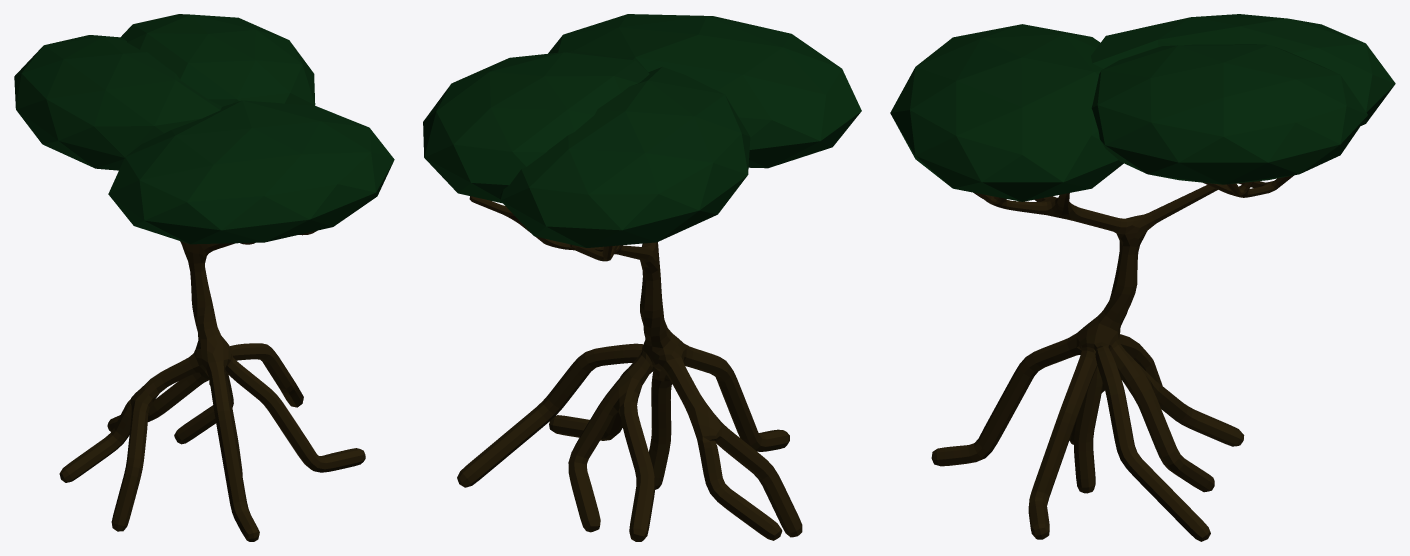
Rendered from tree2-1.fbx.
3 views of the same model, side by side, from view 1: azimuth 30°, elevation 25°; view 2: azimuth 150°, elevation 25°; view 3: azimuth 270°, elevation 25° (orthographic). The views are drawn at different scales.
Parts seen in each view (by area): view 1: Cube_LOD0; view 2: Cube_LOD0; view 3: Cube_LOD0.
Boxes of the visible parts, x1,y1,x2,y2 form: Cube_LOD0: [14, 14, 394, 541]; Cube_LOD0: [423, 14, 861, 541]; Cube_LOD0: [890, 14, 1395, 541].
Size of what is drawn, in the model's own units: 605 by 905 by 889.
